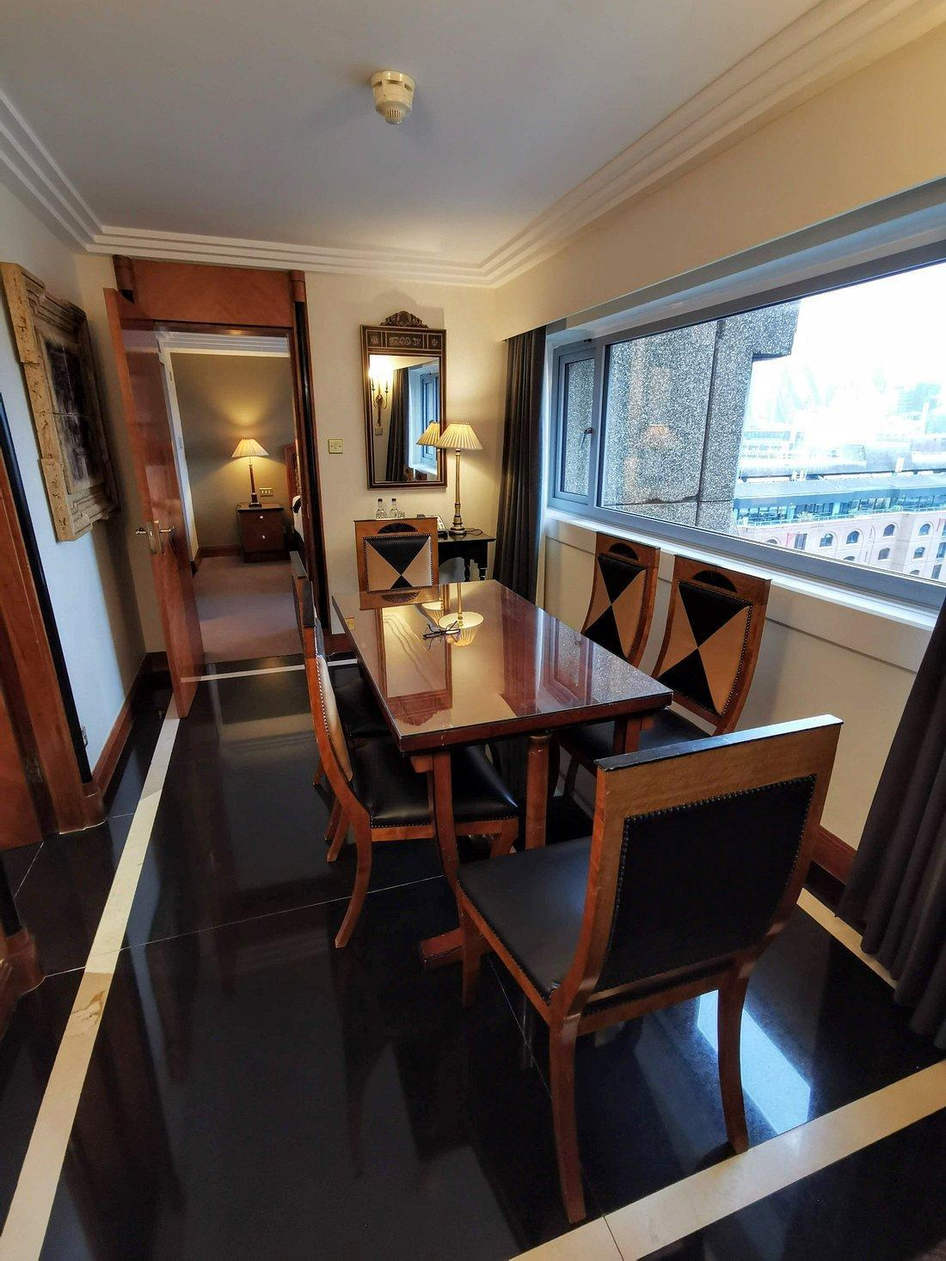chair: (574, 705, 849, 1132), (273, 647, 469, 907), (666, 565, 772, 761), (348, 518, 464, 615), (574, 542, 660, 649)
clean_floor: (2, 658, 945, 1259)
lamp: (428, 413, 497, 542), (217, 423, 290, 518)
organized table: (331, 587, 673, 866)
